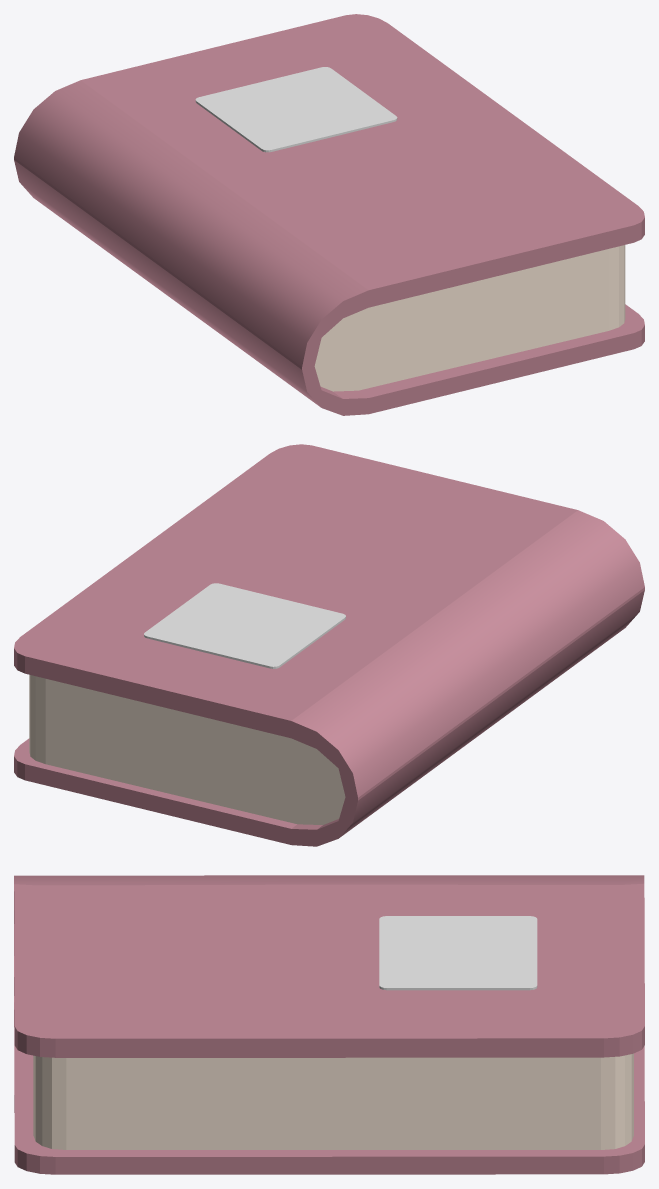
File: Book.fbx
3 renders of one model, top to bottom at view 1: azimuth 30°, elevation 25°; view 2: azimuth 150°, elevation 25°; view 3: azimuth 270°, elevation 25°, orthographic. The views are drawn at different scales.
Visible parts, largest first — view 1: Kannet, Sivut, Etiketti; view 2: Kannet, Sivut, Etiketti; view 3: Kannet, Sivut, Etiketti.
Boxes of the visible parts, left/top/right/bottom form: Kannet: left=14, top=14, right=644, bottom=415; Sivut: left=314, top=245, right=625, bottom=391; Etiketti: left=195, top=67, right=397, bottom=152; Kannet: left=14, top=444, right=644, bottom=846; Sivut: left=29, top=674, right=345, bottom=824; Etiketti: left=144, top=583, right=345, bottom=668; Kannet: left=14, top=875, right=644, bottom=1174; Sivut: left=33, top=1053, right=633, bottom=1149; Etiketti: left=379, top=916, right=537, bottom=990.
Size of the model in its own units: 0.1503 by 0.051 by 0.2102.
